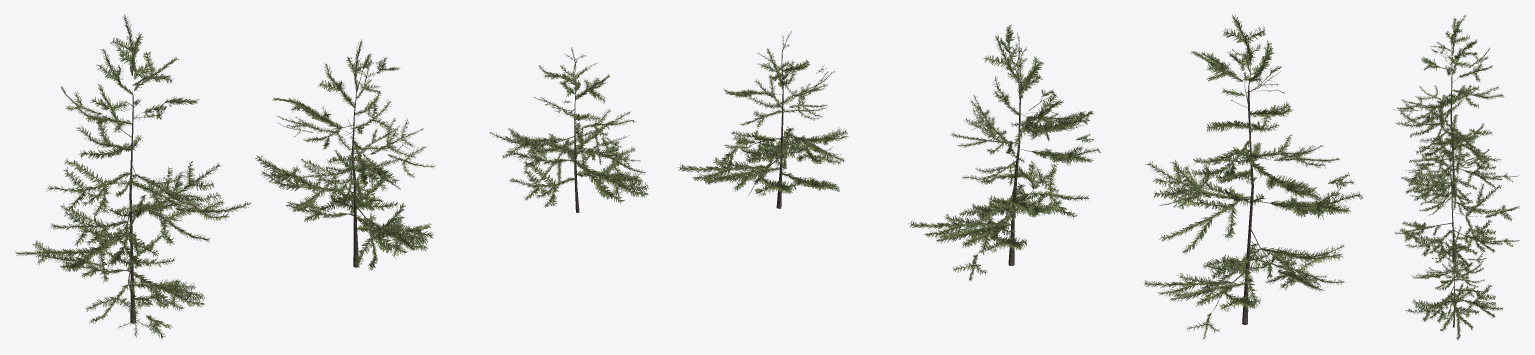
The model's file is fir_sapling.glb.
3 views of the same model, side by side, from view 1: azimuth 30°, elevation 25°; view 2: azimuth 150°, elevation 25°; view 3: azimuth 270°, elevation 25° (orthographic). The views are drawn at different scales.
Visible parts, largest first — view 1: fir_sapling_a, fir_sapling_b, fir_sapling_c; view 2: fir_sapling_a, fir_sapling_b, fir_sapling_c; view 3: fir_sapling_a, fir_sapling_b, fir_sapling_c.
Part boxes in pixels (x1,y1,x2,y2): fir_sapling_a: [15, 14, 250, 340]; fir_sapling_b: [255, 39, 435, 270]; fir_sapling_c: [489, 47, 648, 212]; fir_sapling_a: [1143, 14, 1363, 339]; fir_sapling_b: [908, 24, 1100, 281]; fir_sapling_c: [677, 31, 848, 208]; fir_sapling_a: [1393, 15, 1518, 211]; fir_sapling_b: [1394, 128, 1519, 276]; fir_sapling_c: [1405, 224, 1503, 340].
Size of the model in its own units: 2.74 by 1.3 by 0.8227.
2 materials, 2 textured.
